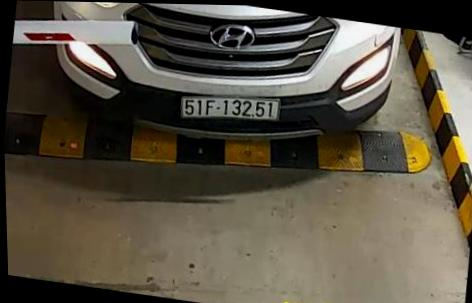License_Plate: (177, 87, 285, 130)
